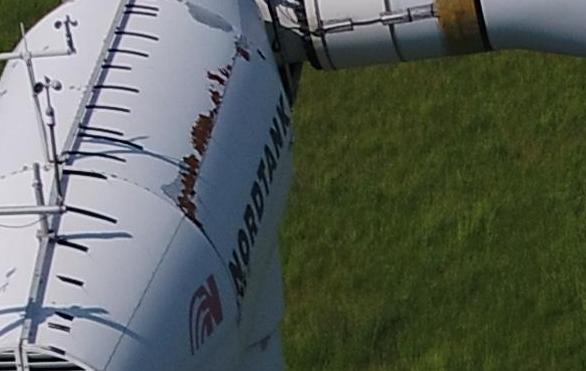damage: (177, 155, 200, 219), (192, 109, 213, 156), (208, 88, 221, 115), (234, 43, 250, 62), (207, 70, 227, 84), (219, 64, 231, 78), (256, 49, 267, 60)
